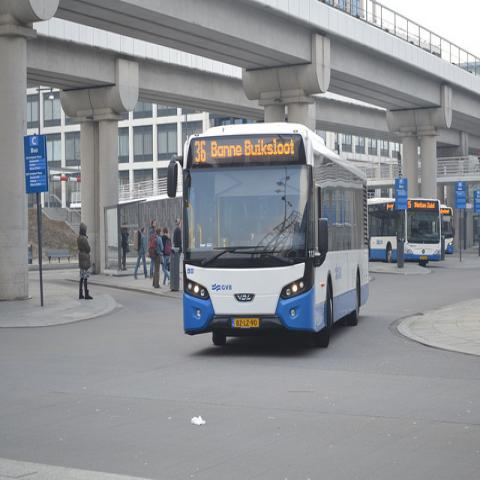bus: (166, 122, 369, 352), (368, 198, 442, 263), (442, 204, 454, 254)
